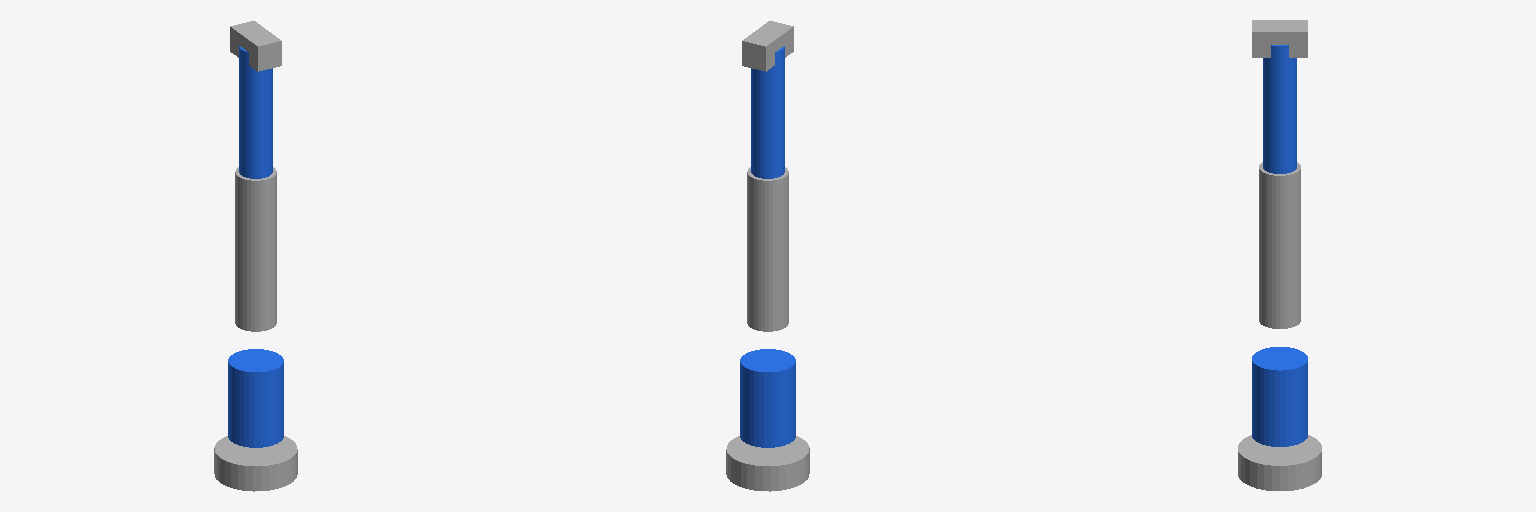
robot.urdf — my_4dof_arm:
<?xml version="1.0"?>
<robot name="my_4dof_arm">

  <material name="blue">
    <color rgba="0.2 0.5 1.0 1.0"/>
  </material>
  <material name="silver">
    <color rgba="0.75 0.75 0.75 1.0"/>
  </material>

  <!-- 基座 -->
  <link name="base_link">
    <visual>
      <geometry><cylinder radius="0.03" length="0.02"/></geometry>
      <material name="silver"/>
    </visual>
    <collision>
      <geometry><cylinder radius="0.03" length="0.02"/></geometry>
    </collision>
  </link>

  <!-- 关节1 -->
  <joint name="joint1" type="revolute">
    <parent link="base_link"/>
    <child link="link1"/>
    <origin xyz="0 0 0.02" rpy="0 0 0"/>
    <axis xyz="0 0 1"/>
    <limit lower="-3.14" upper="3.14" effort="0.5" velocity="1.0"/>
  </joint>

  <link name="link1">
    <visual>
      <geometry><cylinder radius="0.02" length="0.06"/></geometry>
      <origin rpy="0 0 0" xyz="0 0 0.03"/>
      <material name="blue"/>
    </visual>
    <collision>
      <geometry><cylinder radius="0.02" length="0.06"/></geometry>
      <origin rpy="0 0 0" xyz="0 0 0.03"/>
    </collision>
  </link>

  <!-- 关节2 -->
  <joint name="joint2" type="revolute">
    <parent link="link1"/>
    <child link="link2"/>
    <origin xyz="0 0 0.09" rpy="0 0 0"/>
    <axis xyz="0 1 0"/>
    <limit lower="-1.57" upper="1.57" effort="0.5" velocity="1.0"/>
  </joint>

  <link name="link2">
    <visual>
      <geometry><cylinder radius="0.015" length="0.12"/></geometry>
      <origin rpy="0 0 0" xyz="0 0 0.06"/>
      <material name="silver"/>
    </visual>
    <collision>
      <geometry><cylinder radius="0.015" length="0.12"/></geometry>
      <origin rpy="0 0 0" xyz="0 0 0.06"/>
    </collision>
  </link>

  <!-- 关节3 -->
  <joint name="joint3" type="revolute">
    <parent link="link2"/>
    <child link="link3"/>
    <origin xyz="0 0 0.12" rpy="0 0 0"/>
    <axis xyz="0 1 0"/>
    <limit lower="-1.57" upper="1.57" effort="0.5" velocity="1.0"/>
  </joint>

  <link name="link3">
    <visual>
      <geometry><cylinder radius="0.012" length="0.10"/></geometry>
      <origin rpy="0 0 0" xyz="0 0 0.05"/>
      <material name="blue"/>
    </visual>
    <collision>
      <geometry><cylinder radius="0.012" length="0.10"/></geometry>
      <origin rpy="0 0 0" xyz="0 0 0.05"/>
    </collision>
  </link>

  <!-- 关节4（固定） -->
  <joint name="joint4" type="fixed">
    <parent link="link3"/>
    <child link="link4"/>
    <origin xyz="0 0 0.10" rpy="0 0 0"/>
  </joint>

  <link name="link4">
    <visual>
      <geometry><box size="0.02 0.04 0.02"/></geometry>
      <material name="silver"/>
    </visual>
    <collision>
      <geometry><box size="0.02 0.04 0.02"/></geometry>
    </collision>
  </link>

</robot>

--- Render facts (derived) ---
3 views of the same robot in one strip: view 1: azimuth 30°, elevation 25°; view 2: azimuth 150°, elevation 25°; view 3: azimuth 270°, elevation 25° (orthographic).
Model my_4dof_arm with 5 links and 4 joints (3 revolute, 1 fixed), rooted at base_link, posed every joint at zero.
Visible links, largest first — view 1: link2, link1, link3, base_link, link4; view 2: link2, link1, link3, base_link, link4; view 3: link2, link1, link3, base_link, link4.
Link boxes in pixels (left/top/right/bottom): link2: left=235, top=167, right=276, bottom=331; link1: left=228, top=349, right=283, bottom=447; link3: left=239, top=46, right=272, bottom=178; base_link: left=214, top=436, right=297, bottom=491; link4: left=230, top=21, right=281, bottom=71; link2: left=747, top=167, right=788, bottom=331; link1: left=740, top=349, right=795, bottom=447; link3: left=751, top=46, right=784, bottom=178; base_link: left=726, top=436, right=809, bottom=491; link4: left=742, top=21, right=793, bottom=71; link2: left=1259, top=162, right=1300, bottom=328; link1: left=1252, top=347, right=1307, bottom=446; link3: left=1263, top=45, right=1296, bottom=173; base_link: left=1238, top=435, right=1321, bottom=490; link4: left=1252, top=20, right=1307, bottom=57.
Size in the robot's own frame: 0.06 by 0.06 by 0.35 metres.
Geometry: primitives only (box / cylinder / sphere), no mesh files.
